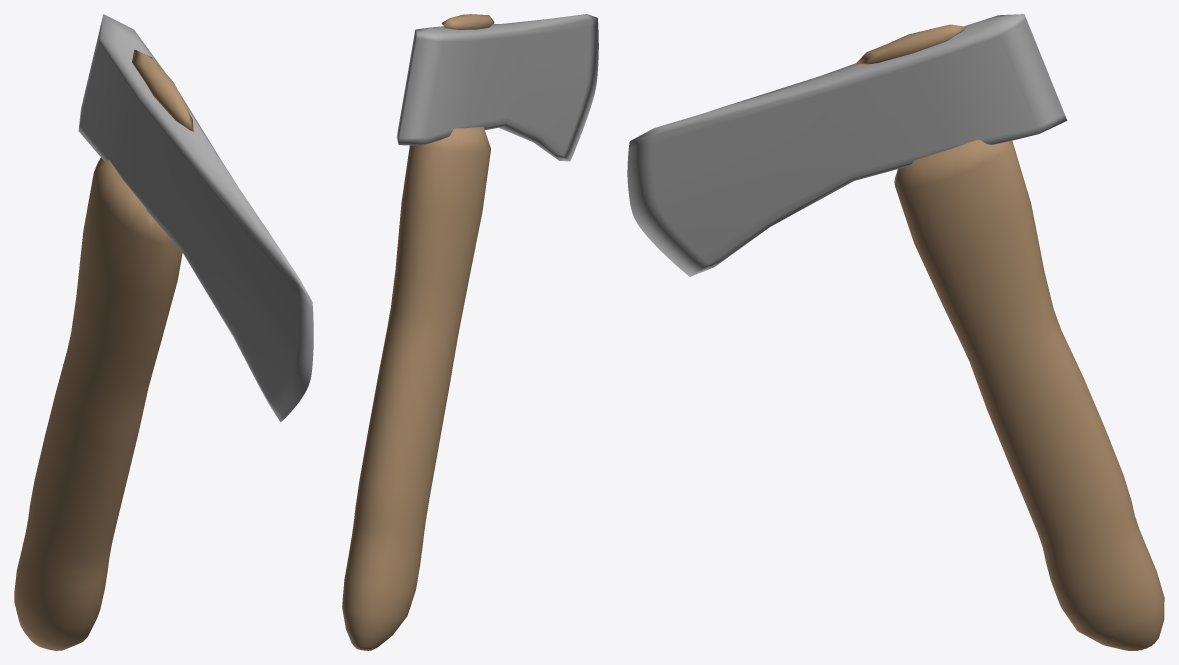
Rendered from Axe_tool.fbx.
The picture shows the model from 3 angles, left to right: view 1: azimuth 30°, elevation 25°; view 2: azimuth 150°, elevation 25°; view 3: azimuth 270°, elevation 25°; orthographic projection. The views are drawn at different scales.
Parts seen in each view (by area): view 1: pCube3; view 2: pCube3; view 3: pCube3.
Part boxes in pixels (x1,y1,x2,y2): pCube3: [14, 14, 313, 650]; pCube3: [342, 14, 598, 650]; pCube3: [627, 14, 1164, 650].
Bounding box in the file's own units: 1.45 × 13.07 × 10.01.
